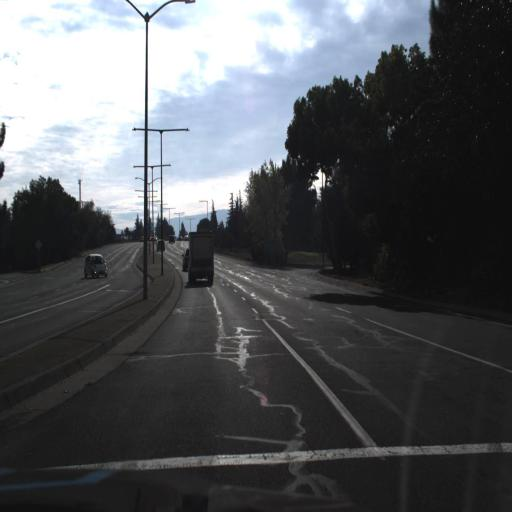car: (83, 252, 109, 282), (178, 249, 189, 279), (180, 247, 190, 273), (155, 240, 165, 253), (168, 234, 175, 244)
truck: (187, 230, 215, 287)
